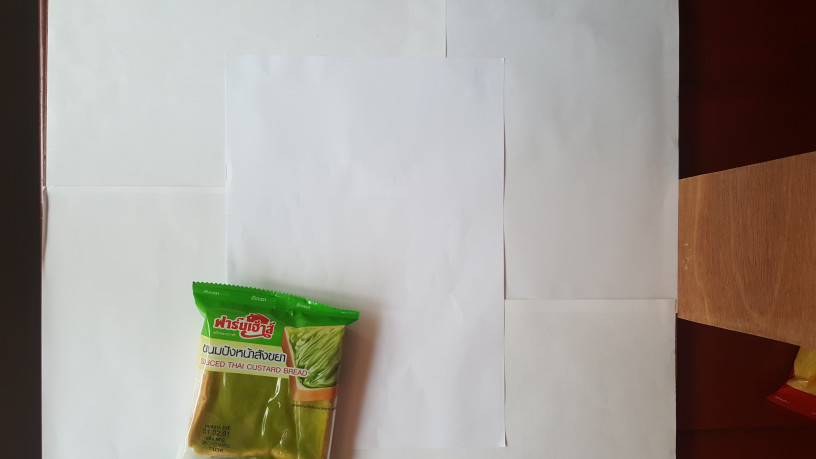farmhouse-bread-pandan: (181, 279, 362, 459)
